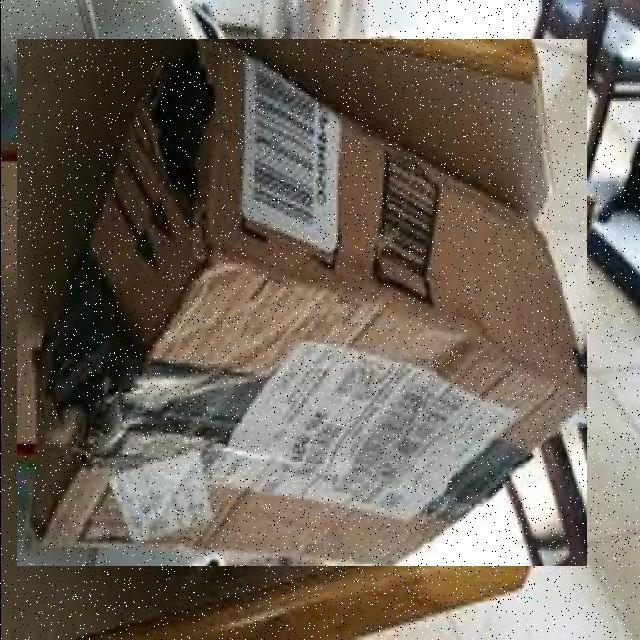defect: (16, 39, 586, 566)
